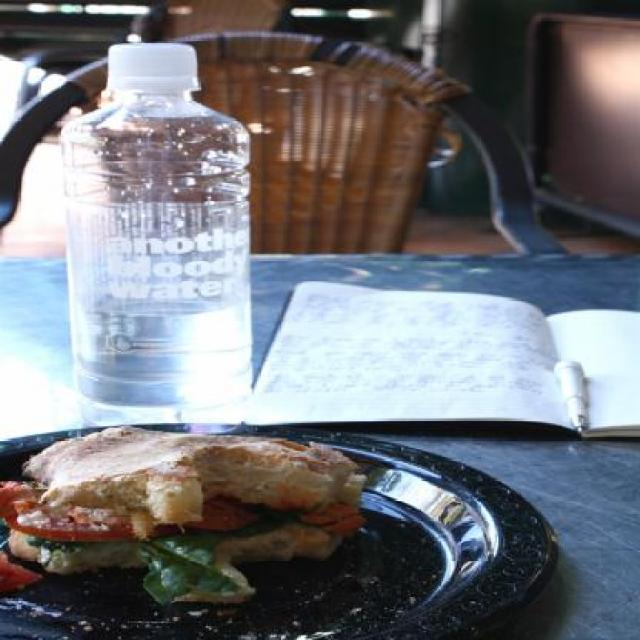Sandwich: (0, 419, 378, 603)
